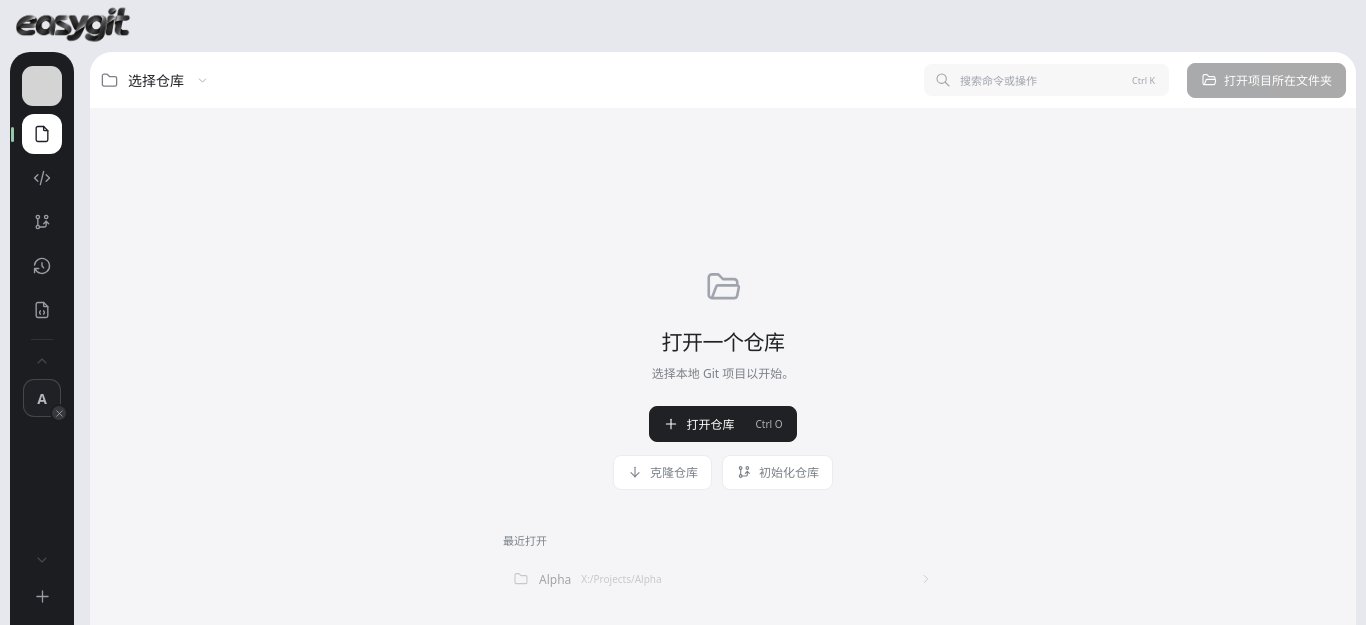
Test: 差异页文件操作 › 全屏仍可暂存和取消暂存，暂存区不显示丢弃工作区内容的入口
The width and height of the screenshot is (1366, 625).
Step 1. Click the button "A" → (42, 398), box [23,379,61,417]
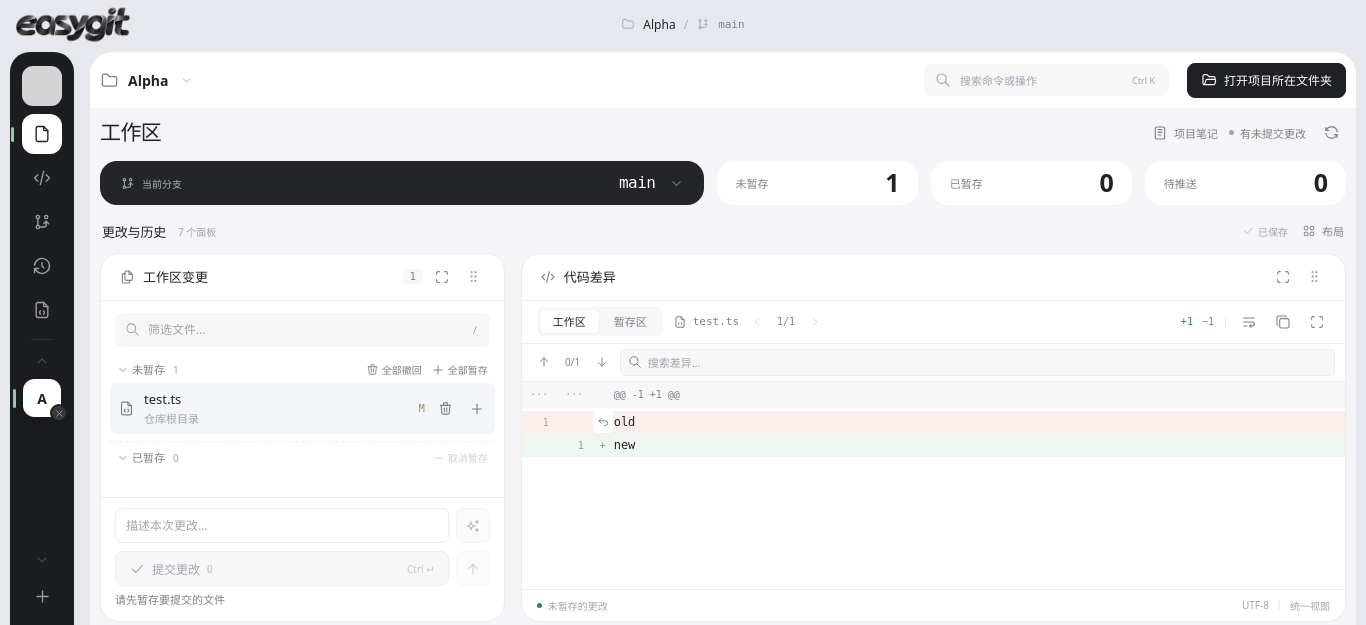
Step 2. Click the button named "展开代码差异" → (1318, 322), box [1305,308,1330,335]
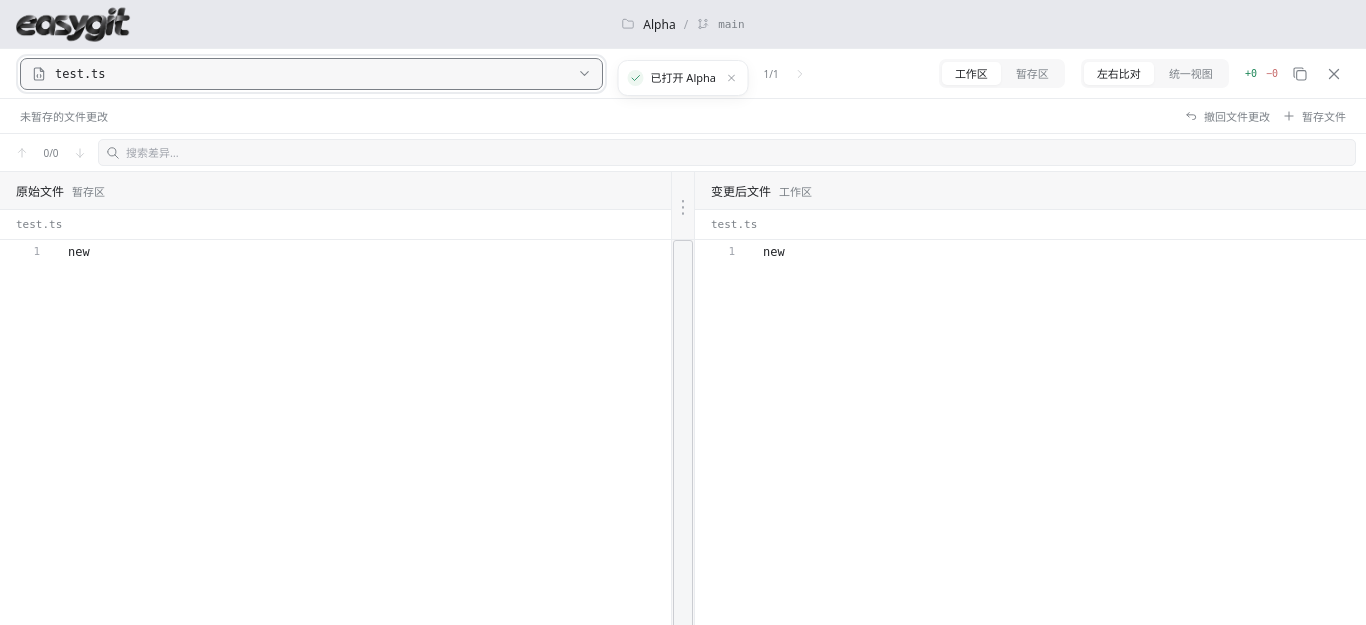
Step 3. Click the button "暂存文件" → (1314, 116), box [1282,108,1346,124]
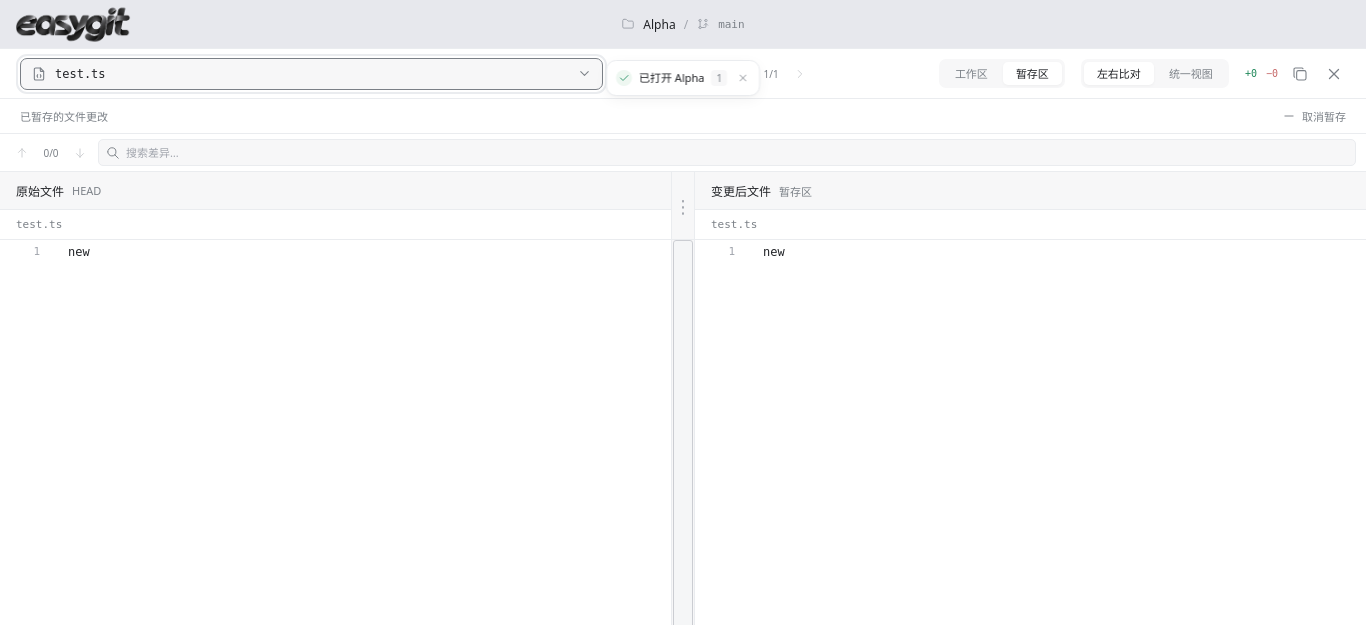
Result: the button named "撤回当前文件更改" is gone
Step 4. Click the button "取消暂存" → (1314, 116), box [1282,108,1346,124]
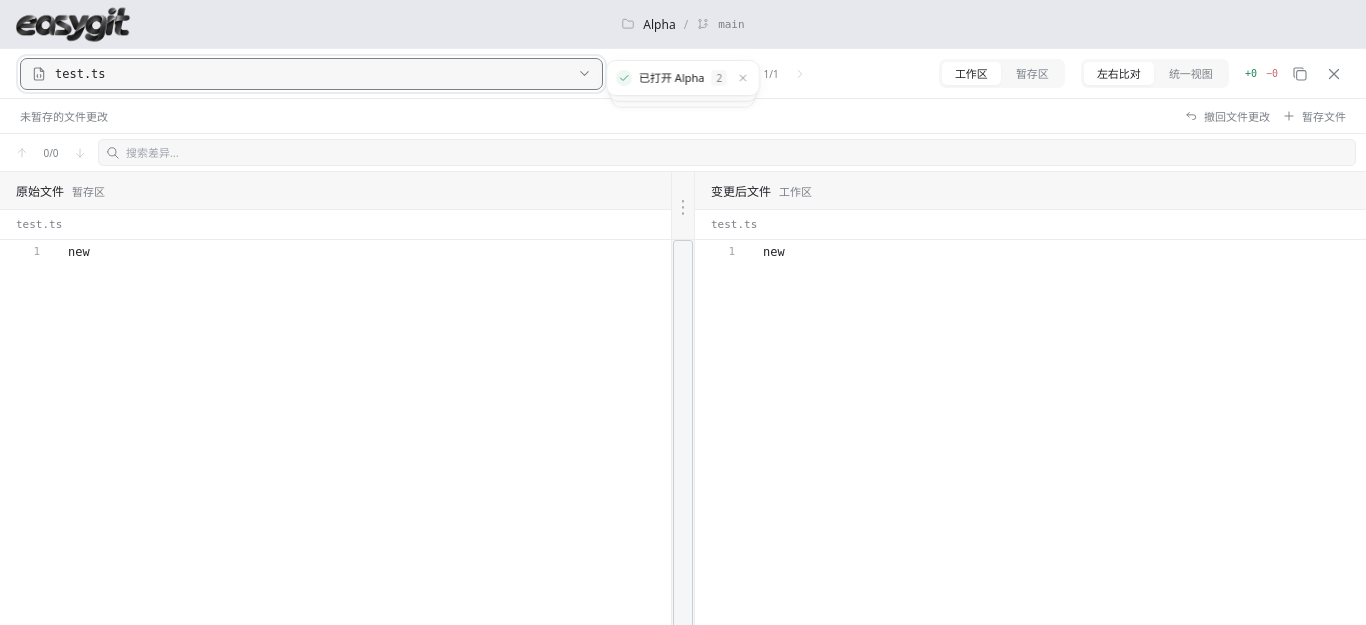
Result: the button with aria-label "撤回当前文件更改" is shown at [1184,108,1270,124]
